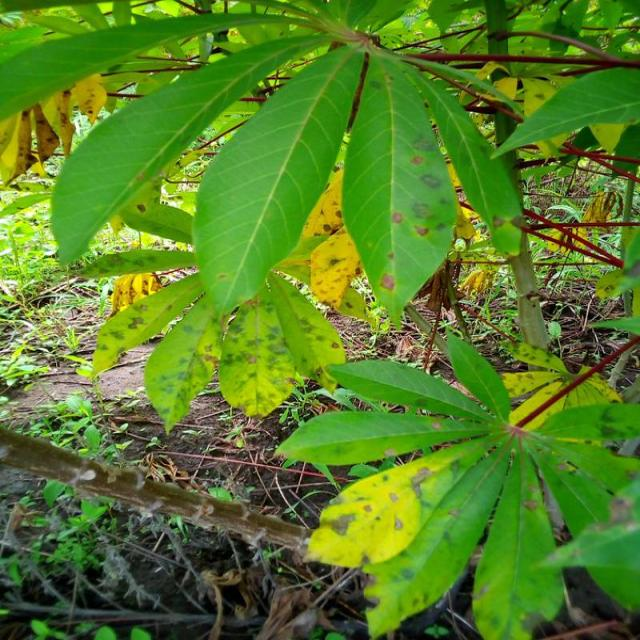cassava leaf: (298, 332, 638, 638), (191, 36, 366, 318), (340, 44, 458, 325)
